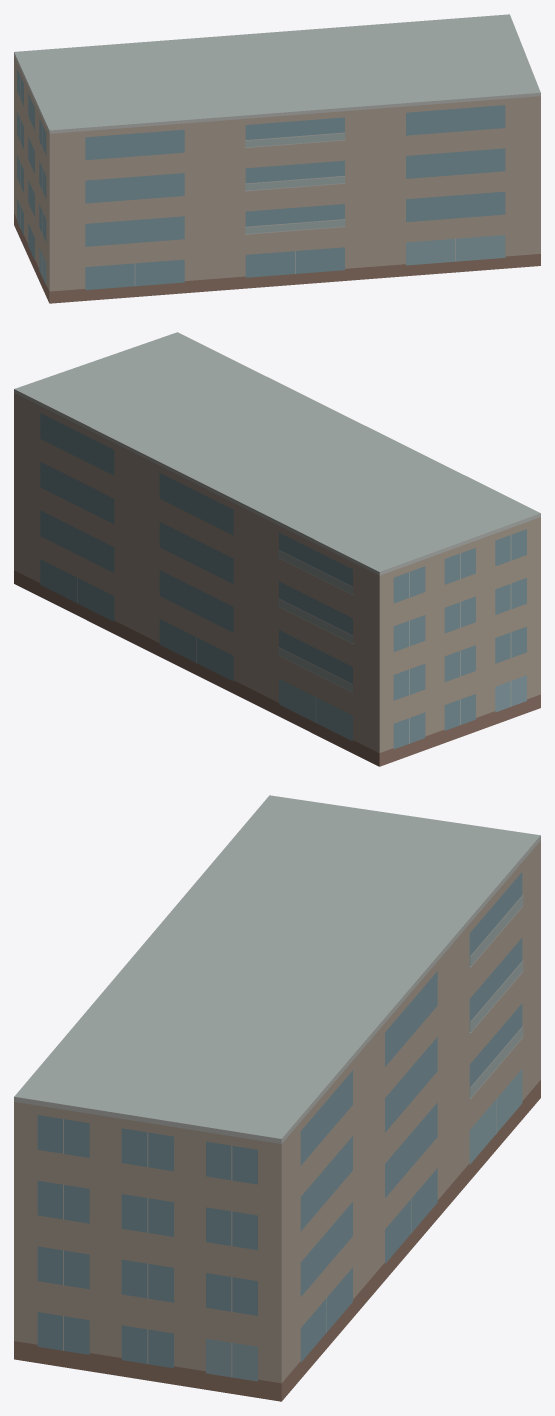
The model's file is survey-upis-33018681.glb.
The picture shows the model from 3 angles, top to bottom: view 1: azimuth 30°, elevation 25°; view 2: azimuth 150°, elevation 25°; view 3: azimuth 270°, elevation 25°; orthographic projection. The views are drawn at different scales.
Visible parts, largest first — view 1: survey-upis-33018681.tmp; view 2: survey-upis-33018681.tmp; view 3: survey-upis-33018681.tmp.
Part boxes in pixels (x1=…): survey-upis-33018681.tmp: x1=14, y1=14, x2=540, y2=303; survey-upis-33018681.tmp: x1=14, y1=332, x2=540, y2=766; survey-upis-33018681.tmp: x1=14, y1=795, x2=540, y2=1401.
Size of the model in its own units: 35.66 by 12.7 by 23.1.
